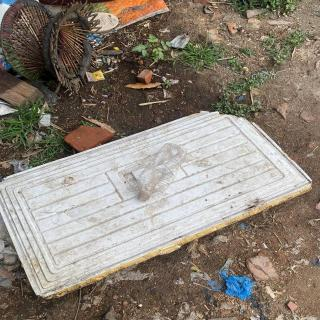Plastic-bottle: (133, 141, 190, 205)
